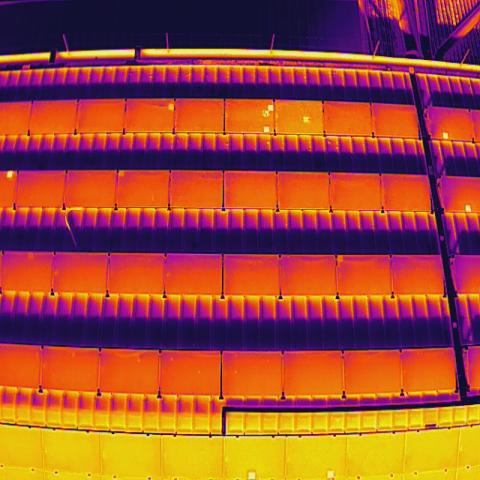fault: (245, 469, 258, 479), (326, 468, 336, 479), (302, 114, 311, 125), (336, 254, 344, 264), (167, 102, 175, 112), (117, 169, 125, 178), (464, 204, 472, 212), (441, 131, 449, 139), (6, 170, 13, 179), (263, 125, 270, 134), (262, 110, 268, 117), (268, 104, 274, 111)
